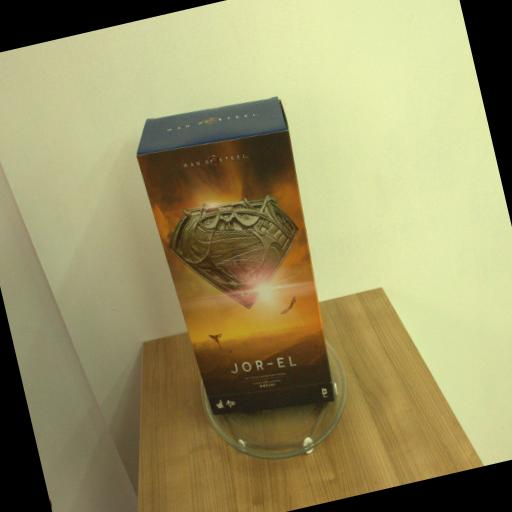superman: (129, 88, 351, 432)
